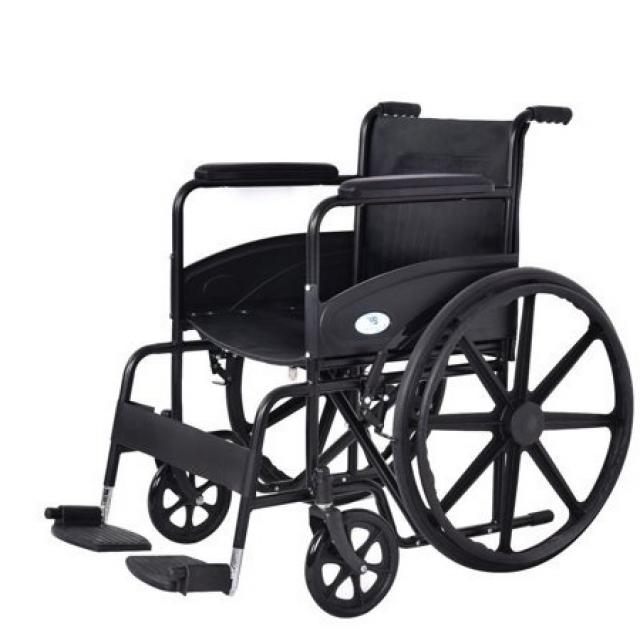wheelchair: (41, 82, 640, 640)
